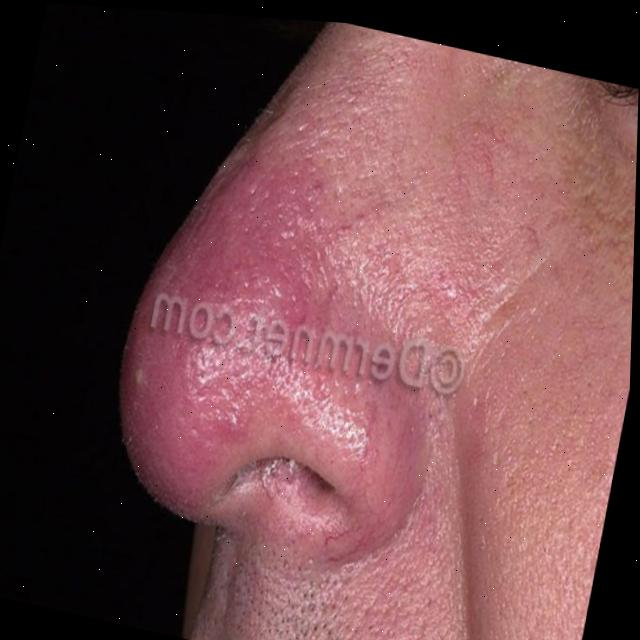Rosacea: (121, 138, 393, 505)
